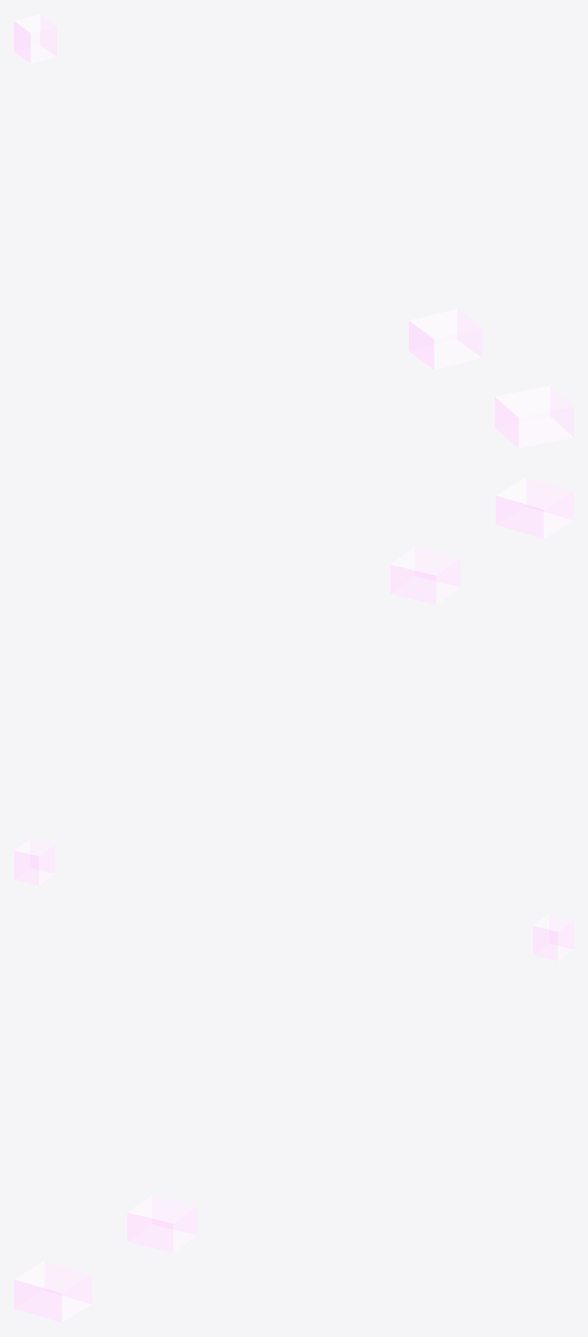
Rendered from Plants.glb.
3 renders of one model, top to bottom at view 1: azimuth 30°, elevation 25°; view 2: azimuth 150°, elevation 25°; view 3: azimuth 330°, elevation 25°, orthographic. The views are drawn at different scales.
Visible parts, largest first — view 1: debug_view; view 2: debug_view; view 3: debug_view.
Boxes of the visible parts, x1,y1,x2,y2 form: debug_view: (14,14,573,448); debug_view: (14,477,573,885); debug_view: (14,914,573,1322).
Size of the model in its own units: 1.83 by 0.8212 by 25.91.
